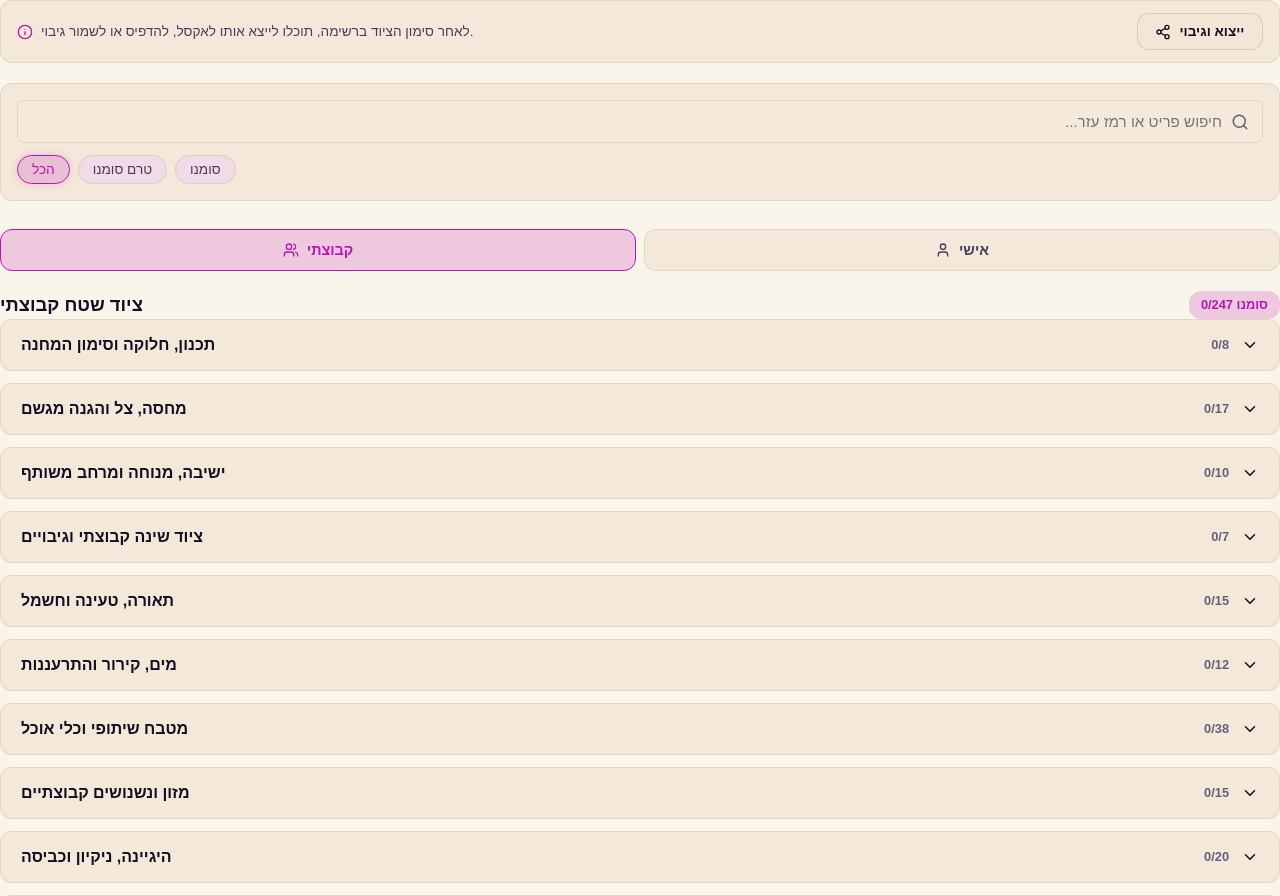
Scenario: EquipmentChecklist › expands a topic on click and shows its items
Step 1. Click the text "מחסה, צל והגנה מגשם" → (104, 409), box [21, 400, 187, 418]
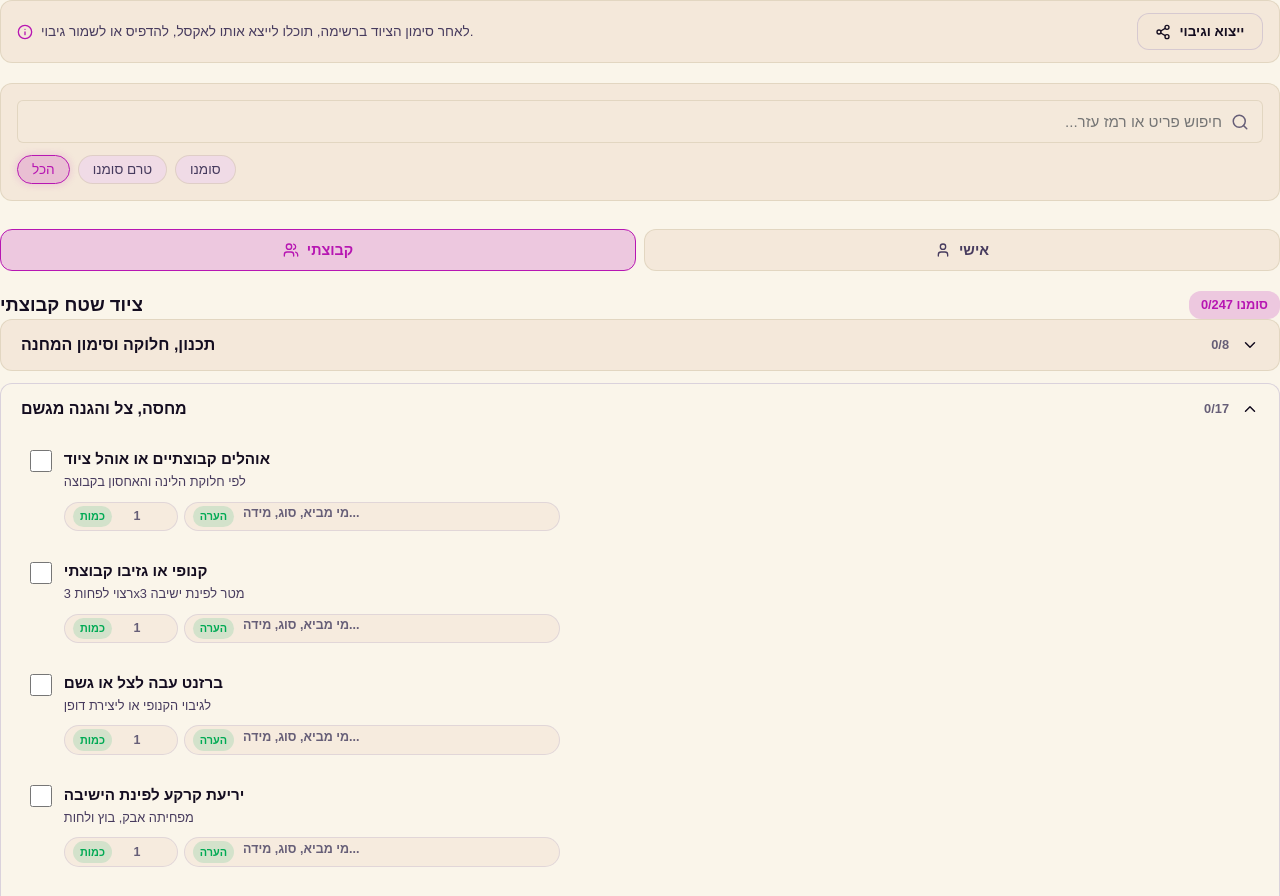
expect the text "אוהלים קבוצתיים או אוהל ציוד" is shown: met, box [64, 450, 270, 467]
